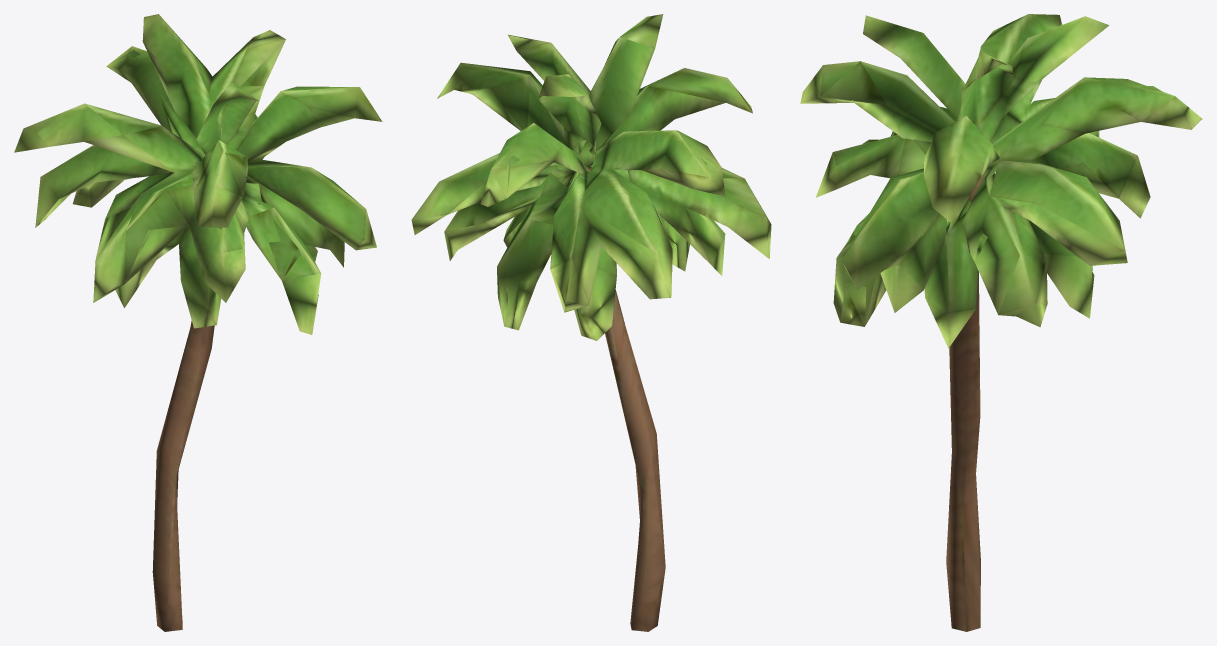
The model's file is palm_a_far.glb.
3 renders of one model, left to right at view 1: azimuth 30°, elevation 25°; view 2: azimuth 150°, elevation 25°; view 3: azimuth 270°, elevation 25°, orthographic. The views are drawn at different scales.
Visible parts, largest first — view 1: body; view 2: body; view 3: body.
Part boxes in pixels (<box>): body: <box>14,14,382,631</box>; body: <box>411,14,771,631</box>; body: <box>800,14,1202,631</box>.
Size of the model in its own units: 5.17 by 8.58 by 4.95.
Materials: 2 (2 with a texture image).
